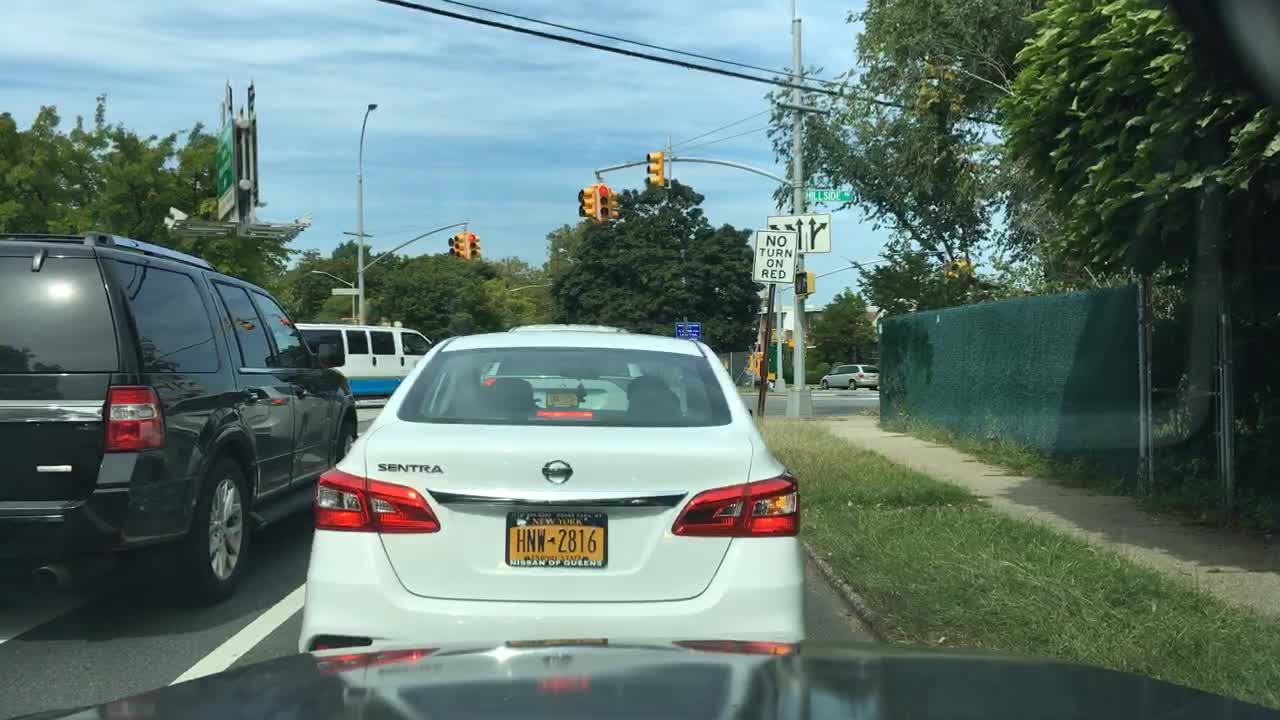car: (297, 328, 803, 652), (0, 231, 360, 610), (293, 321, 435, 406), (819, 361, 881, 391), (505, 321, 632, 332)
traffic light: (643, 149, 667, 188), (743, 349, 772, 381), (594, 184, 611, 223), (944, 259, 974, 280), (576, 186, 594, 218), (793, 269, 814, 294), (465, 231, 481, 260), (608, 189, 620, 220), (783, 328, 799, 347), (454, 234, 466, 257), (446, 237, 457, 256)
traffic sign: (749, 227, 796, 285), (213, 117, 239, 220), (765, 214, 828, 254), (804, 185, 853, 203), (675, 320, 702, 342), (331, 286, 361, 296)
